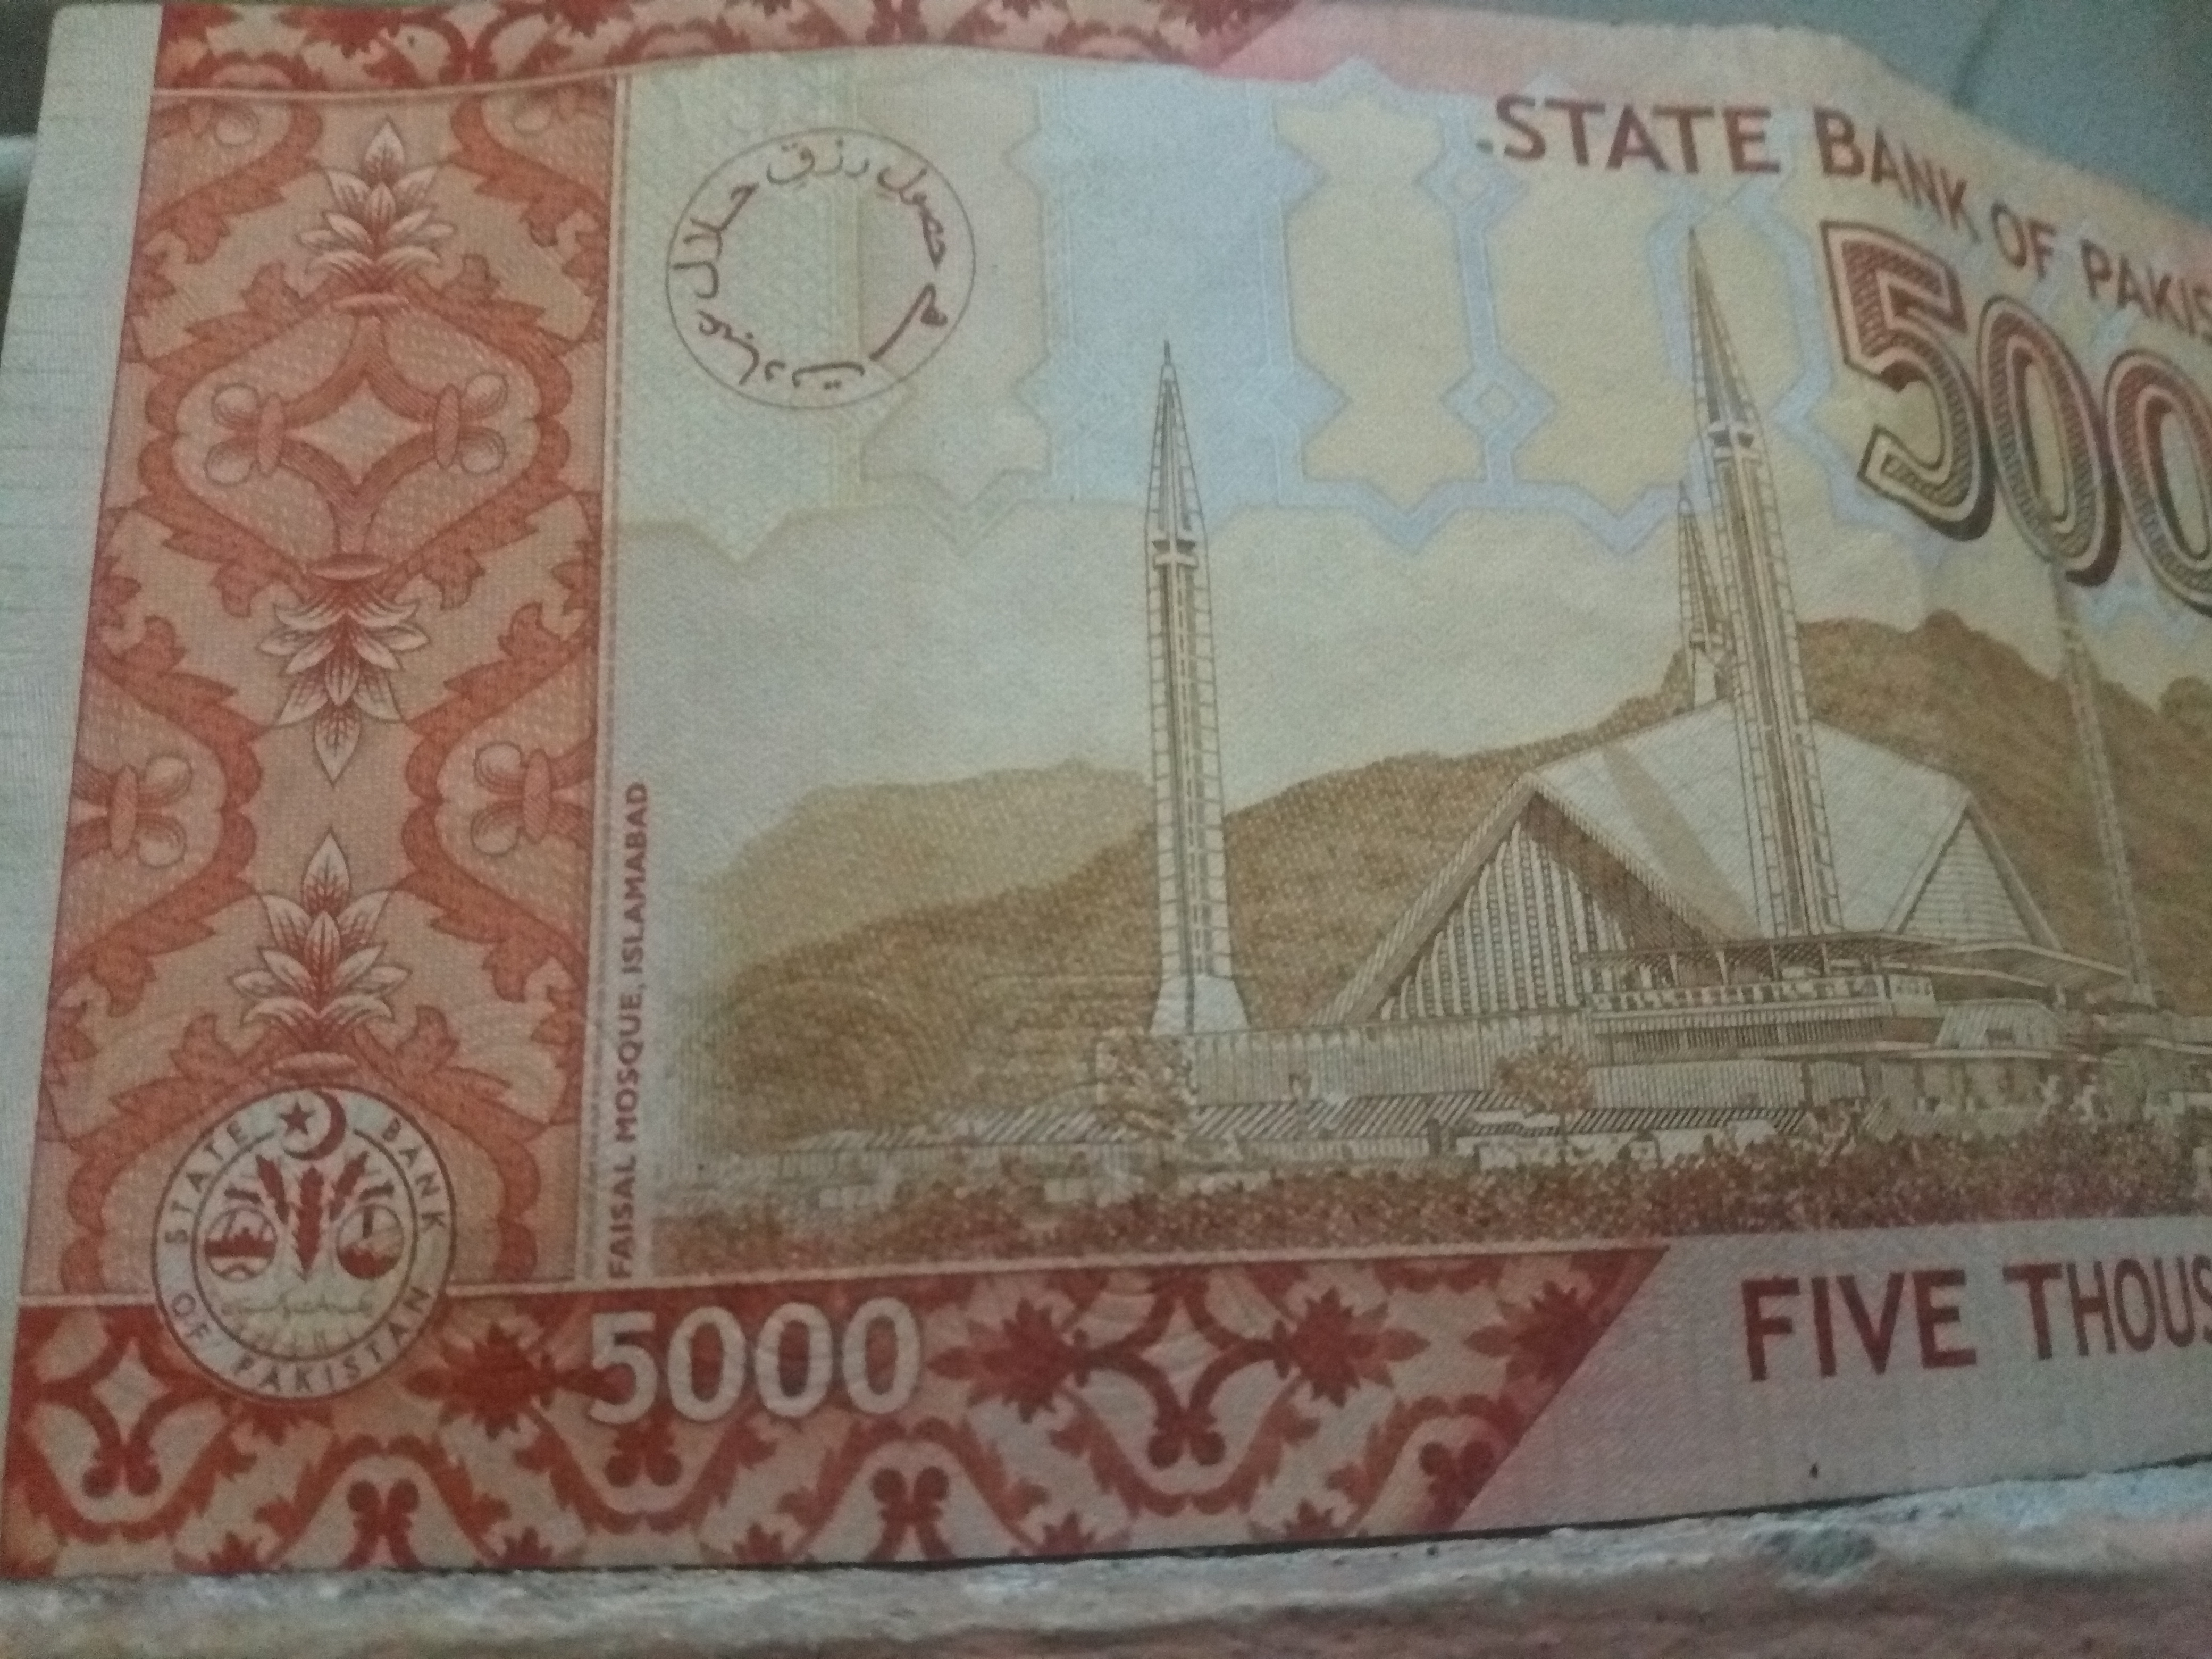5000 rupee: (47, 28, 2193, 1570)
